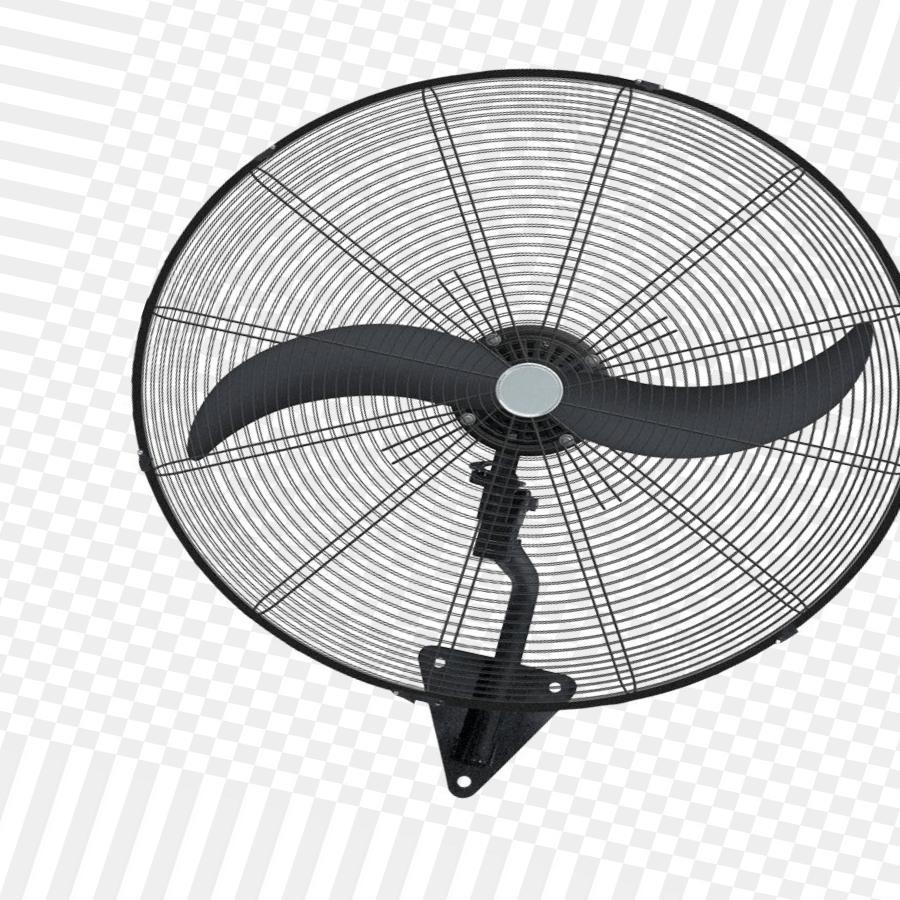fan: (113, 75, 900, 801)
